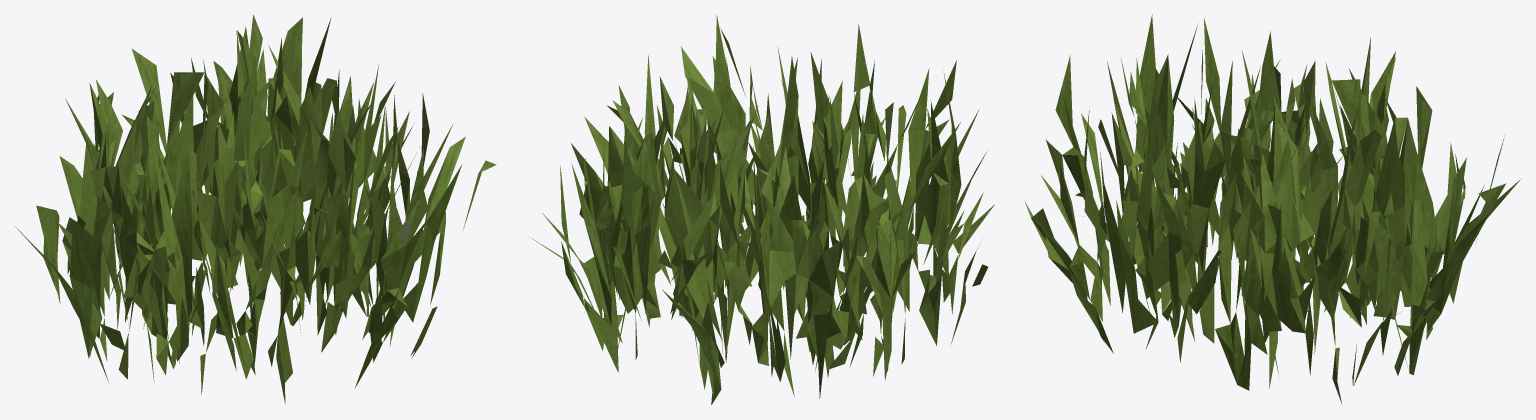
File: groundcover.glb
3 renders of one model, left to right at view 1: azimuth 30°, elevation 25°; view 2: azimuth 150°, elevation 25°; view 3: azimuth 270°, elevation 25°, orthographic. The views are drawn at different scales.
Parts seen in each view (by area): view 1: output_unwrapped; view 2: output_unwrapped; view 3: output_unwrapped.
Boxes of the visible parts, x1=… form: output_unwrapped: x1=15, y1=15, x2=496, y2=403; output_unwrapped: x1=528, y1=14, x2=994, y2=404; output_unwrapped: x1=1025, y1=14, x2=1520, y2=404.
Size of the model in its own units: 1.44 by 0.9561 by 1.47.
Materials: 1 (1 with a texture image).
